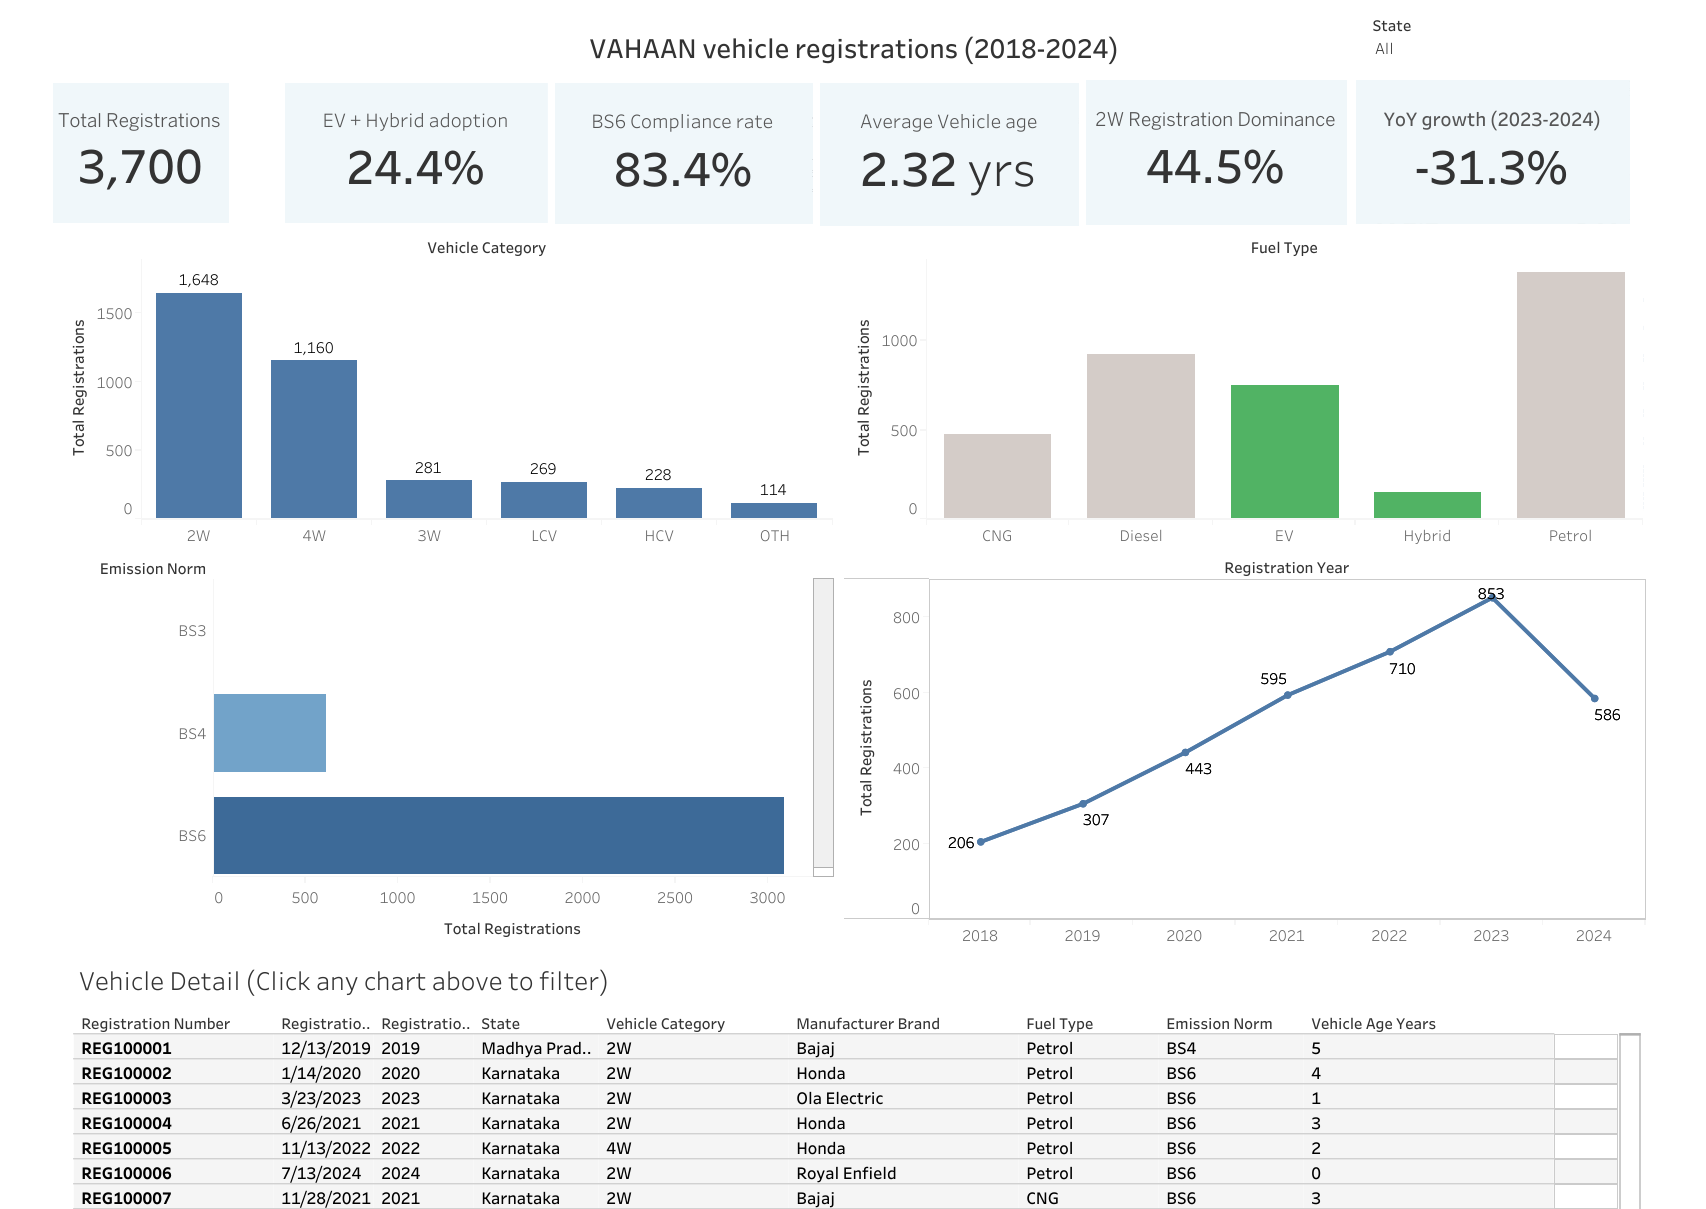

The dashboard page shown, as its layout file describes it:
{"tool":"tableau","page":{"name":"VAHAAN Overview","canvas":[1366,968],"ordinal":1},"visuals":[{"type":"text","box":[405,6.3,556,63]},{"type":"filter","title":"Registrations by Vehicle Category","param":"[federated.15zitnk0rlkrae10yluan074ekor].[none:State:nk]","box":[1098,10,168,61]},{"type":"worksheet","title":"2W Share","mark":"Automatic","box":[869,64.3,287,233.2]},{"type":"worksheet","title":"Total Registrations","mark":"Automatic","box":[42,65.5,455,322.7]},{"type":"worksheet","title":"EV + Hybrid adoption","mark":"Automatic","box":[228,65.5,455,322.7]},{"type":"worksheet","title":"BS6 Compliance rate","mark":"Automatic","box":[444,65.5,455,322.7]},{"type":"worksheet","title":"Average Vehicle Age","mark":"Automatic","box":[656,65.5,294,233.2]},{"type":"worksheet","title":"Registrations by Vehicle Category","mark":"Automatic","rows":["Calculation_1925000062349313"],"cols":["Vehicle_Category"],"box":[42,183,627.9,260]},{"type":"worksheet","title":"Registrations by Fuel Type","mark":"Automatic","rows":["Calculation_1925000062349313"],"cols":["Fuel_Type"],"box":[669.9,183,648,260]},{"type":"worksheet","title":"Registrations by Emission Norm","mark":"Automatic","rows":["Emission_Norm"],"cols":["Calculation_1925000062349313"],"box":[54,439,618,323]},{"type":"worksheet","title":"Registrations by Year","mark":"Line","rows":["Calculation_1925000062349313","Calculation_1925000062349313"],"cols":["Registration_Year"],"box":[672,439,649,323]}]}

Visuals, with their boxes in screenshot pixels (x1, y1, x2, y2), scaled from the page's 1366x968 canvas onto the 1706x1209 screenshot:
text: bbox(506, 8, 1200, 87)
"Registrations by Vehicle Category" filter: bbox(1371, 12, 1581, 89)
"2W Share" worksheet: bbox(1085, 80, 1444, 372)
"Total Registrations" worksheet: bbox(52, 82, 621, 485)
"EV + Hybrid adoption" worksheet: bbox(285, 82, 853, 485)
"BS6 Compliance rate" worksheet: bbox(555, 82, 1123, 485)
"Average Vehicle Age" worksheet: bbox(819, 82, 1186, 373)
"Registrations by Vehicle Category" worksheet: bbox(52, 229, 837, 553)
"Registrations by Fuel Type" worksheet: bbox(837, 229, 1646, 553)
"Registrations by Emission Norm" worksheet: bbox(67, 548, 839, 952)
"Registrations by Year" worksheet (Line marks): bbox(839, 548, 1650, 952)
